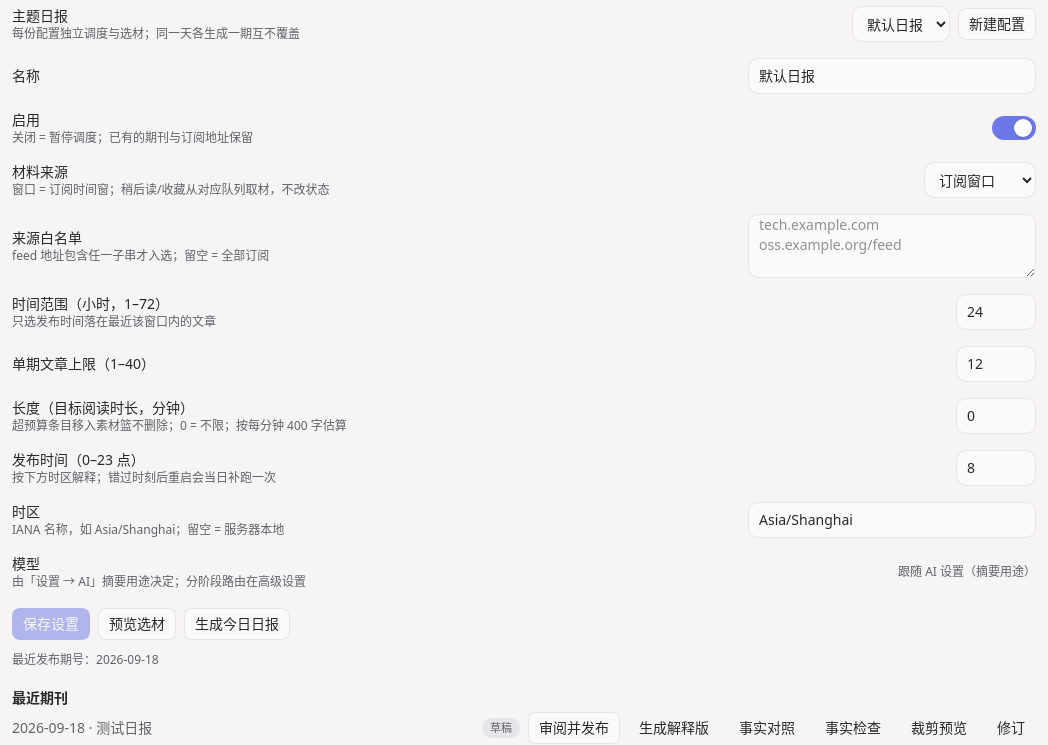
Test: 生成流程：阶段进度 + 取消 + 重试 › 生成失败透出稳定错误并展示重试生成入口
Expected: the dropdown named "选择日报配置" is shown, [852, 6, 950, 42]
What coordinates should you click on to do the following:
click the button "生成今日日报"
I would click on:
 (237, 624)
Its box is [184, 608, 290, 640].
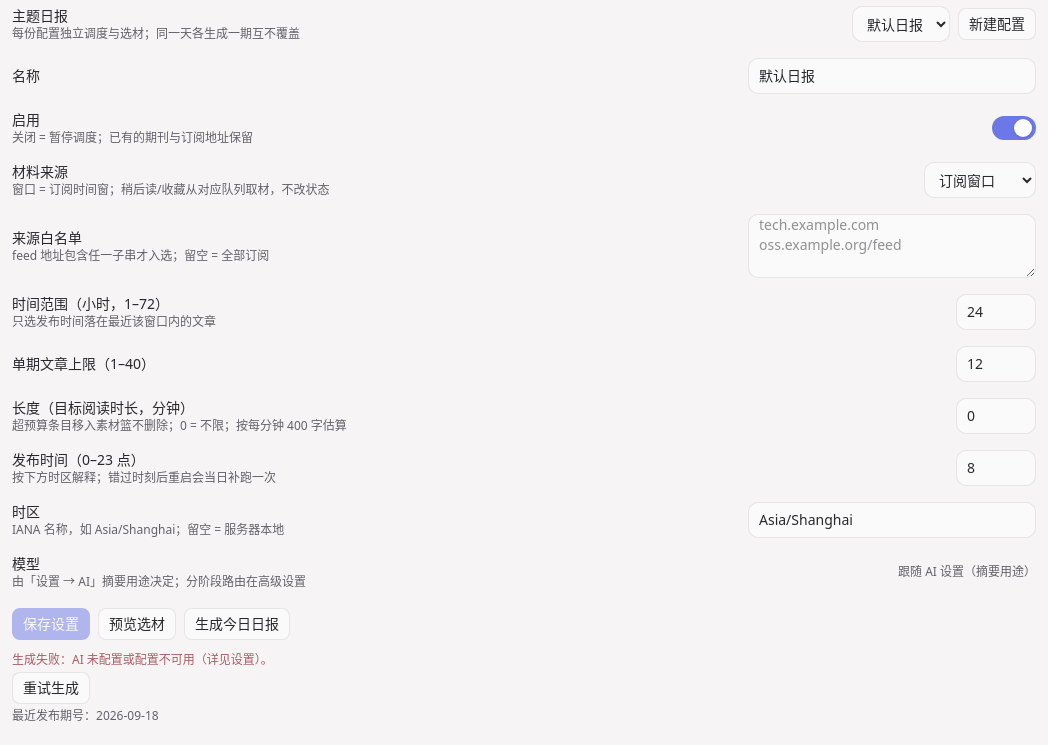
Expected: the message shows "AI 未配置或配置不可用", [72, 651, 273, 668]
Expected: the button "重试生成" is shown, [12, 672, 90, 704]
